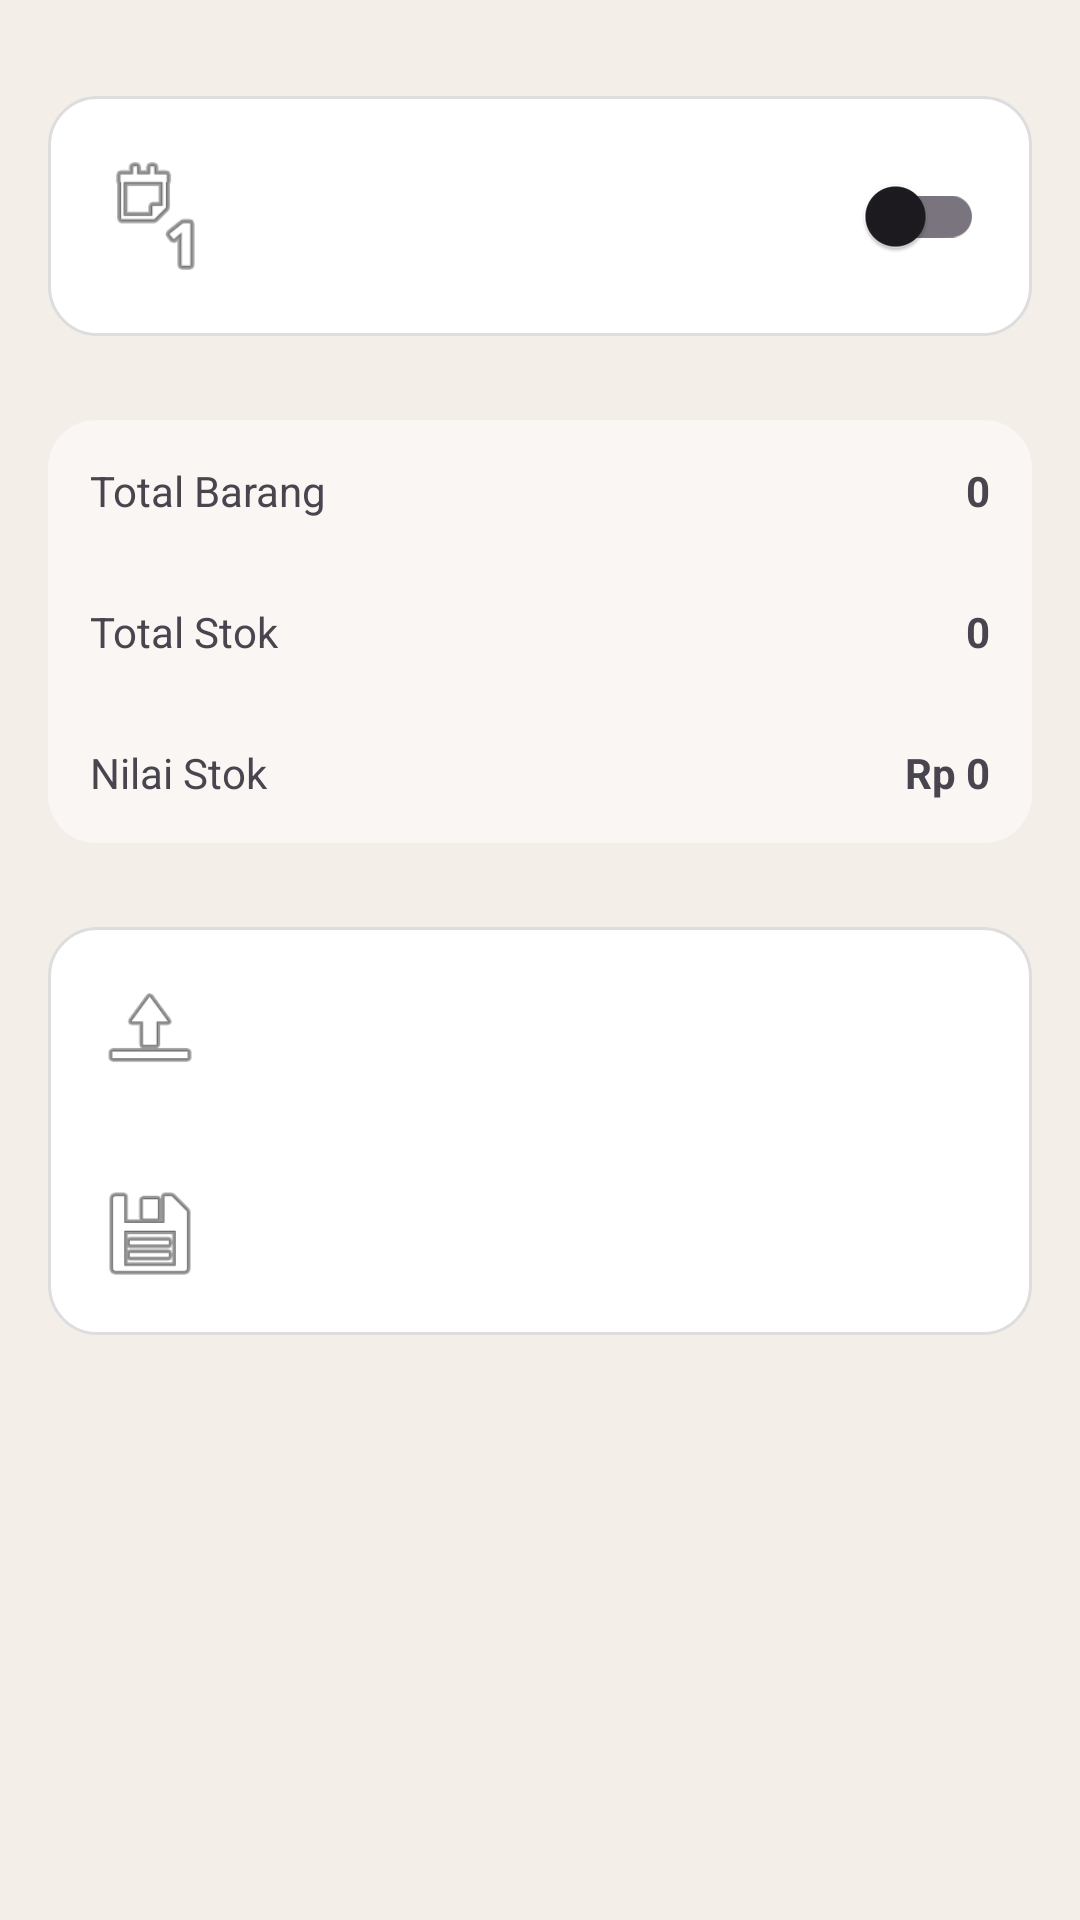

Screen size 1080px x 1920px. Icon name, then its center in pixels as (x,y):
day: (155,216)
save: (150,1233)
upload: (150,1027)
